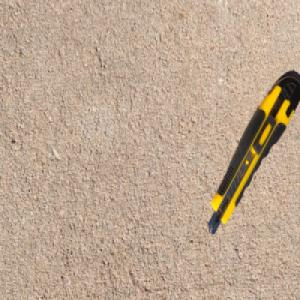Cutter: (206, 72, 300, 238)
